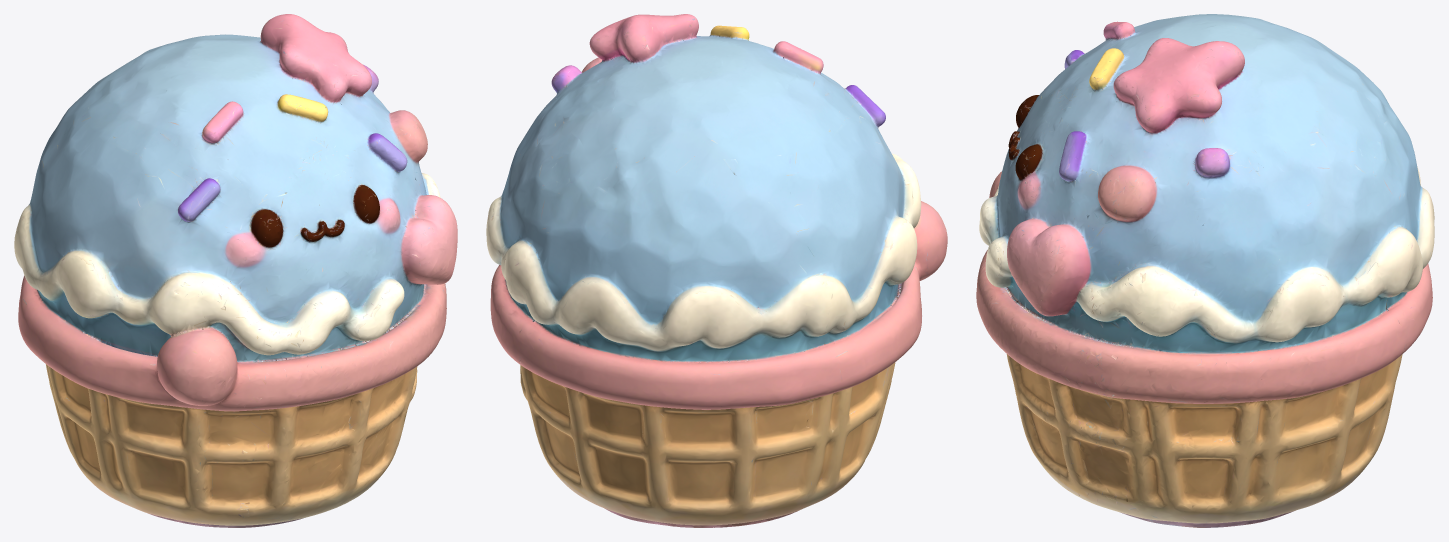
The model's file is Meshy_AI_Kawaii_Blue_Sprinkles_0601104245_texture.fbx.
3 renders of one model, left to right at view 1: azimuth 30°, elevation 25°; view 2: azimuth 150°, elevation 25°; view 3: azimuth 270°, elevation 25°, orthographic. The views are drawn at different scales.
Visible parts, largest first — view 1: Mesh_0; view 2: Mesh_0; view 3: Mesh_0.
Boxes of the visible parts, <box> form: Mesh_0: <box>14,14,457,527</box>; Mesh_0: <box>486,14,947,527</box>; Mesh_0: <box>976,14,1434,527</box>.
Bounding box in the file's own units: 171 × 191 × 173.
Materials: 1 (1 with a texture image).
